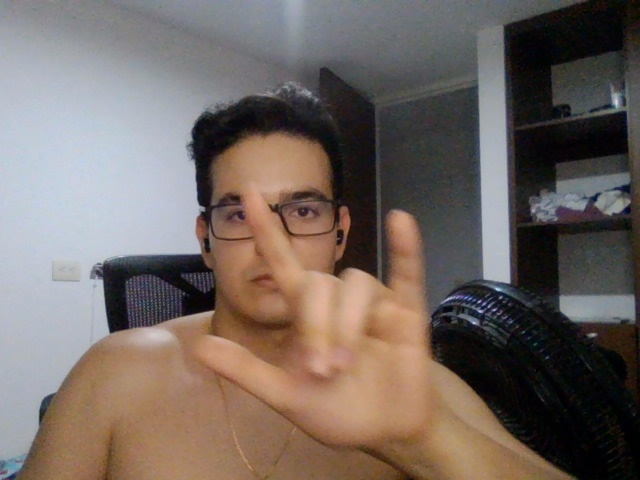YouRock: (170, 179, 453, 454)
